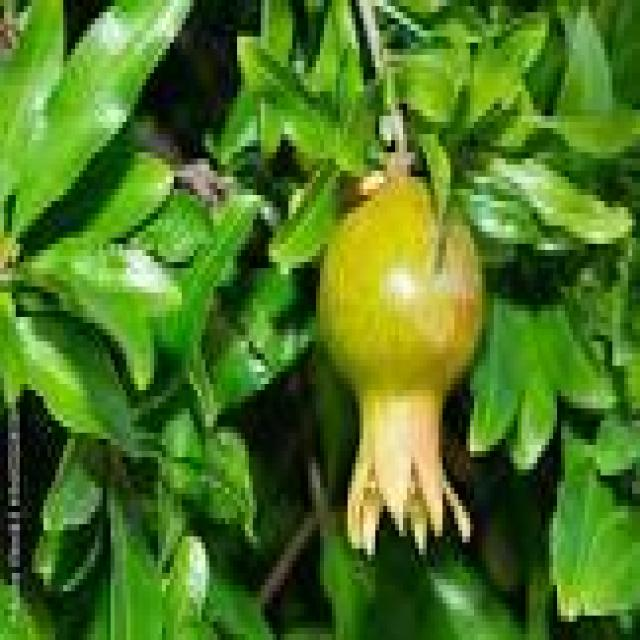Unripe: (317, 169, 486, 556)
